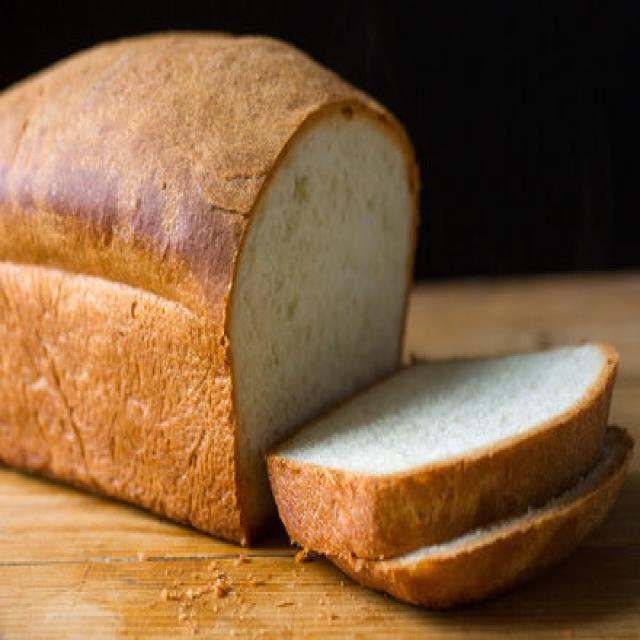Bread: (1, 37, 630, 605)
